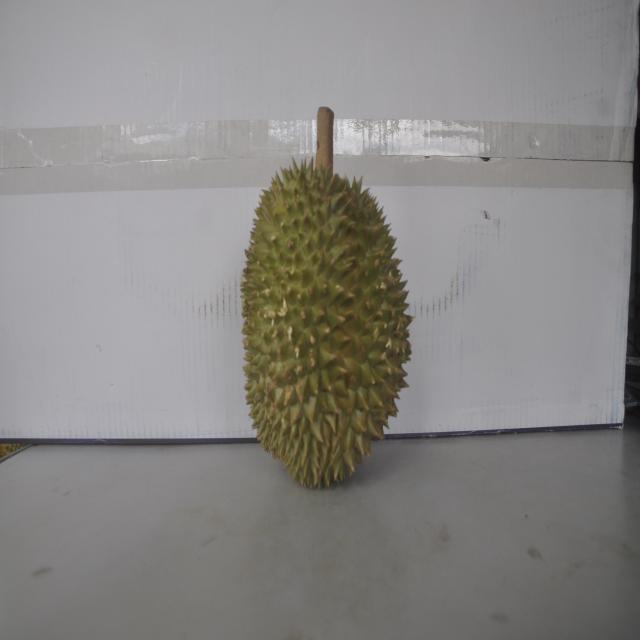mature: (239, 148, 411, 489)
